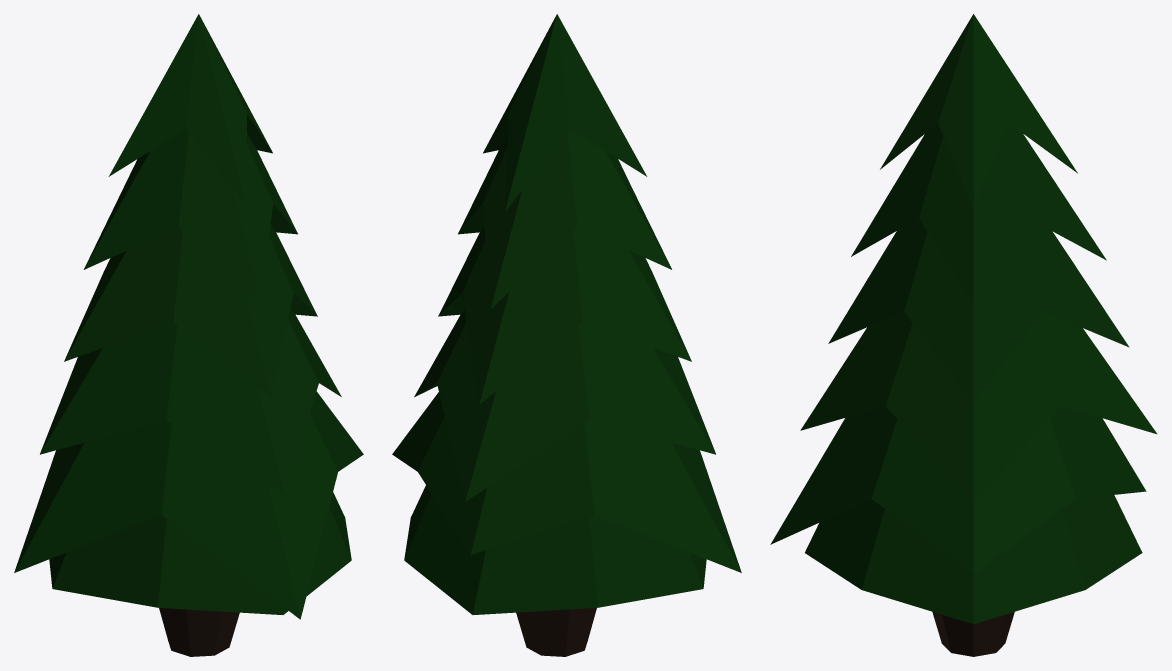
Rendered from tree.obj.
3 views of the same model, side by side, from view 1: azimuth 30°, elevation 25°; view 2: azimuth 150°, elevation 25°; view 3: azimuth 270°, elevation 25° (orthographic).
Visible parts, largest first — view 1: Cylinder.001; view 2: Cylinder.001; view 3: Cylinder.001.
Part boxes in pixels (left/top/right/bottom): Cylinder.001: left=14, top=14, right=363, bottom=656; Cylinder.001: left=392, top=14, right=741, bottom=656; Cylinder.001: left=770, top=14, right=1157, bottom=656.
Size of the model in its own units: 1.61 by 2.77 by 1.55.
